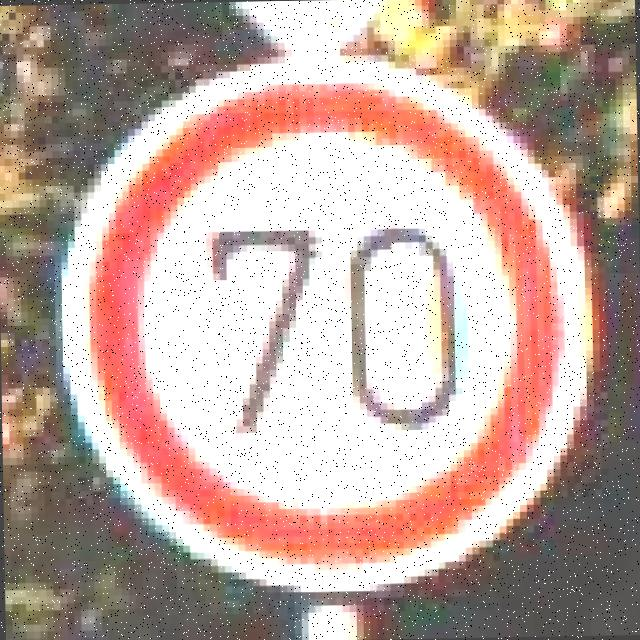Ograniczenie predkosci do 70: (58, 51, 590, 589)
